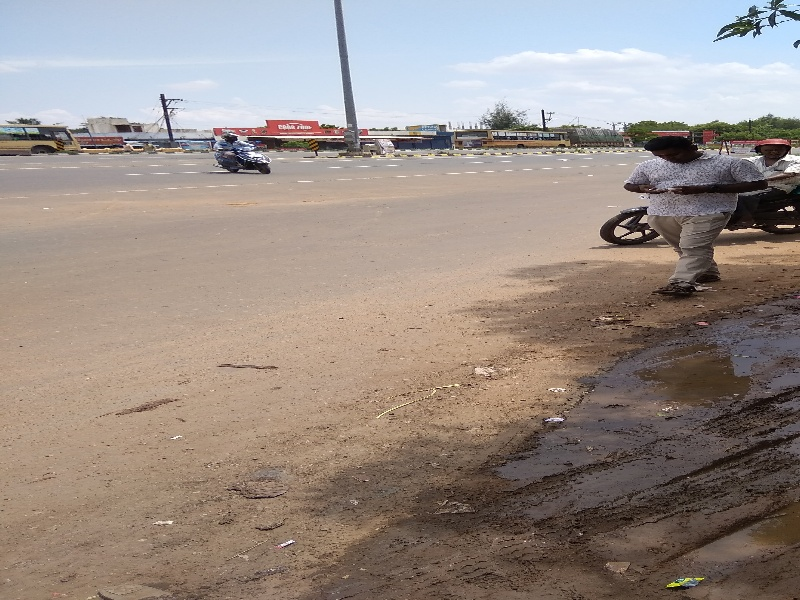biker: (593, 112, 800, 255), (203, 110, 281, 181)
helmet: (749, 132, 797, 162), (217, 128, 242, 147)
